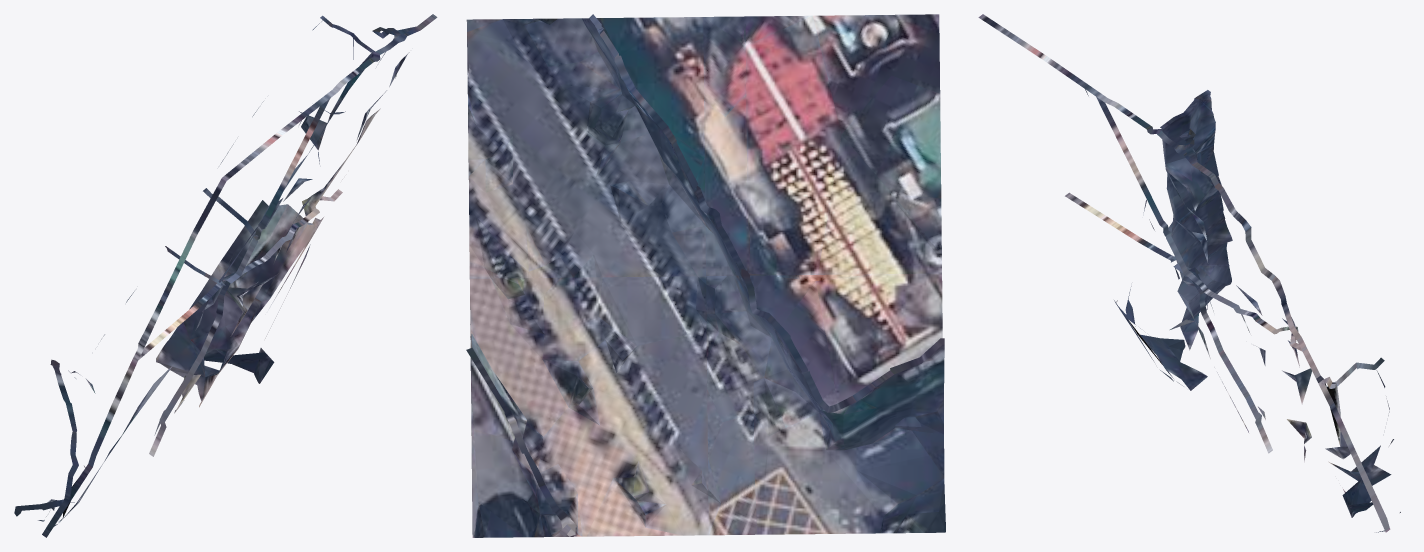
3 renders of one model, left to right at view 1: azimuth 30°, elevation 25°; view 2: azimuth 150°, elevation 25°; view 3: azimuth 270°, elevation 25°, orthographic. The views are drawn at different scales.
Bounding box in the file's own units: 39.49 × 37.83 × 33.66.
1 material, 1 textured.
